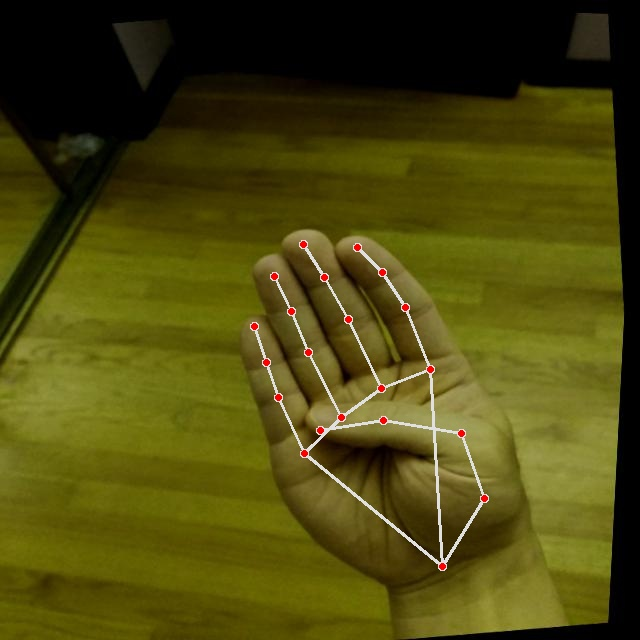B: (207, 196, 580, 623)
